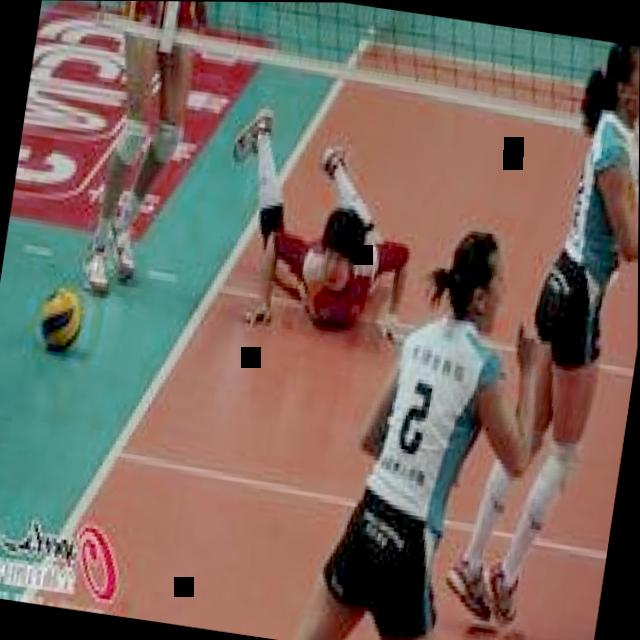Fall-Detected: (202, 78, 447, 347)
